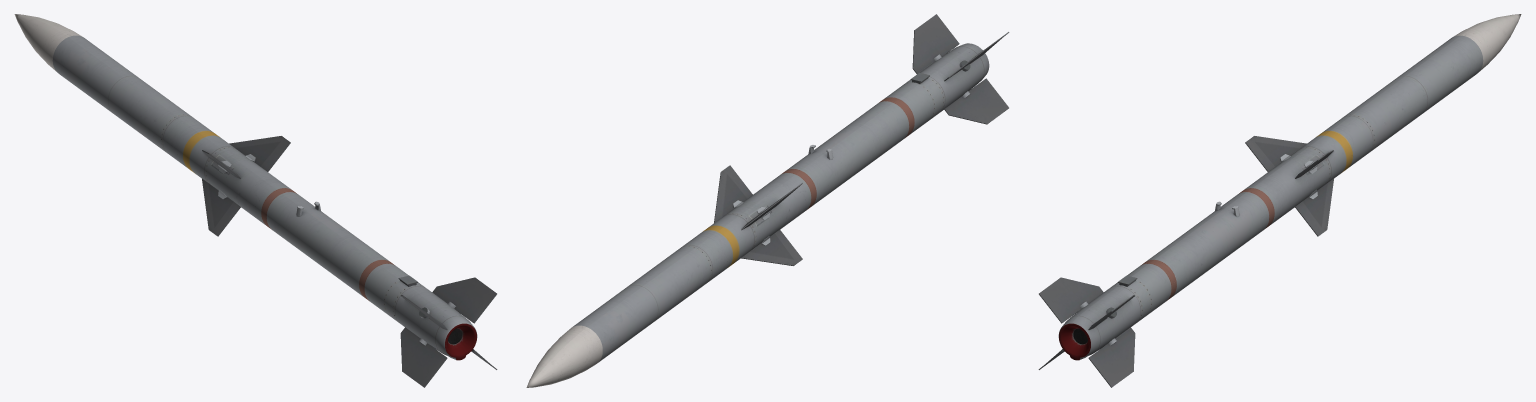
The model's file is aim-120.glb.
The picture shows the model from 3 angles, left to right: view 1: azimuth 30°, elevation 25°; view 2: azimuth 150°, elevation 25°; view 3: azimuth 330°, elevation 25°; orthographic projection.
Parts seen in each view (by area): view 1: us_aim-120; view 2: us_aim-120; view 3: us_aim-120.
Boxes of the visible parts, x1,y1,x2,y2 form: us_aim-120: (14, 14, 497, 387); us_aim-120: (526, 14, 1009, 387); us_aim-120: (1038, 14, 1521, 387).
Bounding box in the file's own units: 0.3492 × 0.3492 × 3.68.
1 material, 1 textured.
